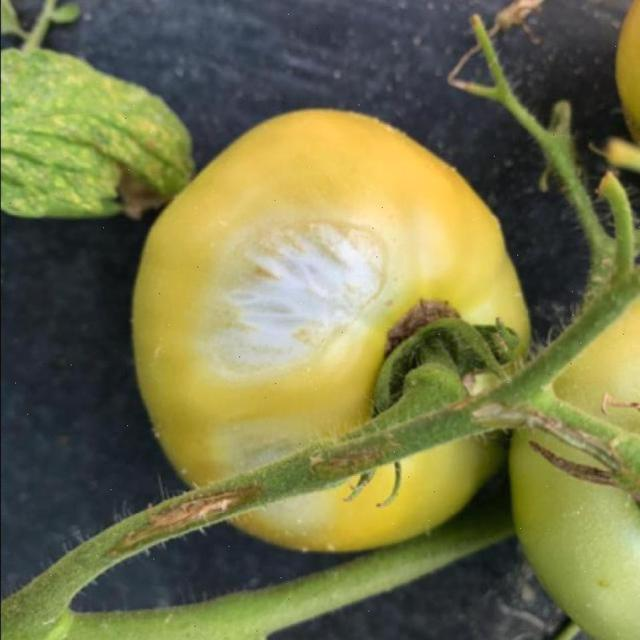Sunscald Fruit: (85, 60, 197, 318)
